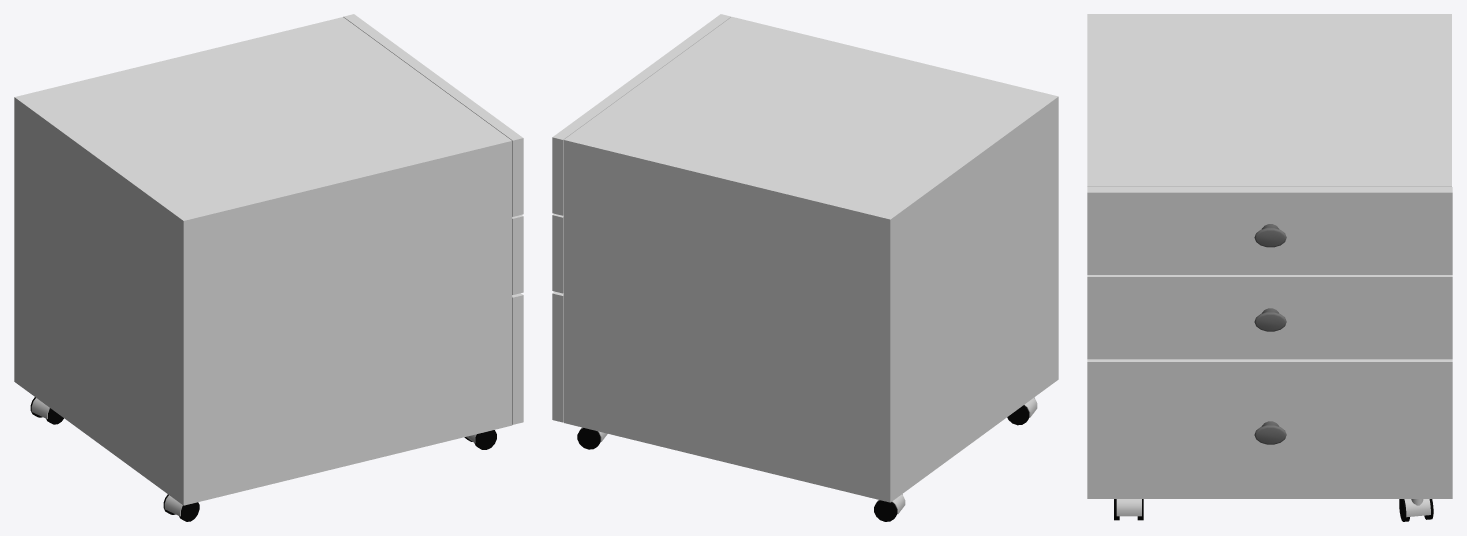
File: Shelf.fbx
3 renders of one model, left to right at view 1: azimuth 30°, elevation 25°; view 2: azimuth 150°, elevation 25°; view 3: azimuth 270°, elevation 25°, orthographic. The views are drawn at different scales.
Parts seen in each view (by area): view 1: ShelfLP.001, ClipBoard1LP.002, ClipBoard2LP.001, Cylinder.011, ClipBoard1LP.003; view 2: ShelfLP.001, ClipBoard1LP.002, ClipBoard2LP.001, Cylinder.011, ClipBoard1LP.003; view 3: ShelfLP.001, ClipBoard2LP.001, ClipBoard1LP.002, ClipBoard1LP.003, Cylinder.011.
Boxes of the visible parts, bbox=[...] form: ShelfLP.001: bbox=[14, 17, 512, 505]; ClipBoard1LP.002: bbox=[343, 14, 523, 216]; ClipBoard2LP.001: bbox=[512, 293, 523, 424]; Cylinder.011: bbox=[30, 397, 496, 521]; ClipBoard1LP.003: bbox=[512, 215, 523, 294]; ShelfLP.001: bbox=[563, 17, 1058, 502]; ClipBoard1LP.002: bbox=[552, 14, 730, 215]; ClipBoard2LP.001: bbox=[552, 291, 563, 422]; Cylinder.011: bbox=[577, 397, 1037, 521]; ClipBoard1LP.003: bbox=[552, 213, 563, 293]; ShelfLP.001: bbox=[1087, 14, 1451, 186]; ClipBoard2LP.001: bbox=[1087, 359, 1452, 498]; ClipBoard1LP.002: bbox=[1087, 187, 1452, 274]; ClipBoard1LP.003: bbox=[1087, 275, 1452, 359]; Cylinder.011: bbox=[1114, 499, 1433, 521].
Bounding box in the file's own units: 1.93 × 1.66 × 1.61.
